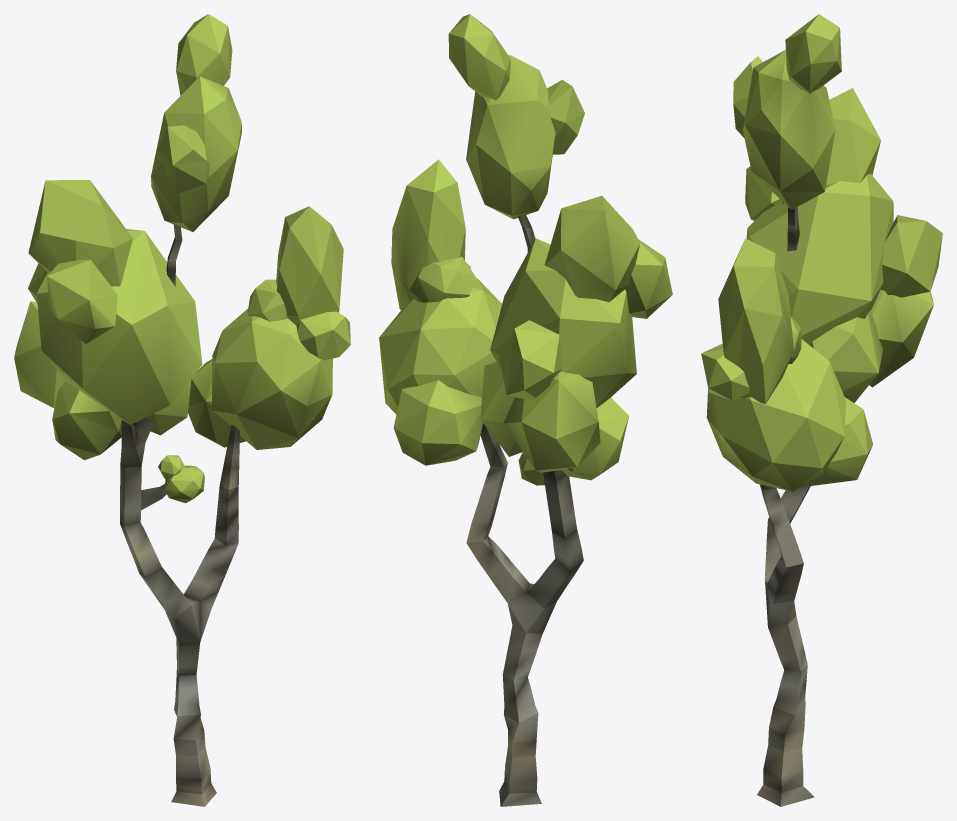
The model's file is SBirchTree.fbx.
3 views of the same model, side by side, from view 1: azimuth 30°, elevation 25°; view 2: azimuth 150°, elevation 25°; view 3: azimuth 270°, elevation 25° (orthographic). The views are drawn at different scales.
Visible parts, largest first — view 1: Cube.001; view 2: Cube.001; view 3: Cube.001.
Boxes of the visible parts, x1,y1,x2,y2 form: Cube.001: (14, 14, 350, 806); Cube.001: (379, 14, 672, 806); Cube.001: (701, 14, 942, 806).
Size of the model in its own units: 923 by 2430 by 667.
Materials: 5 (5 with a texture image).
